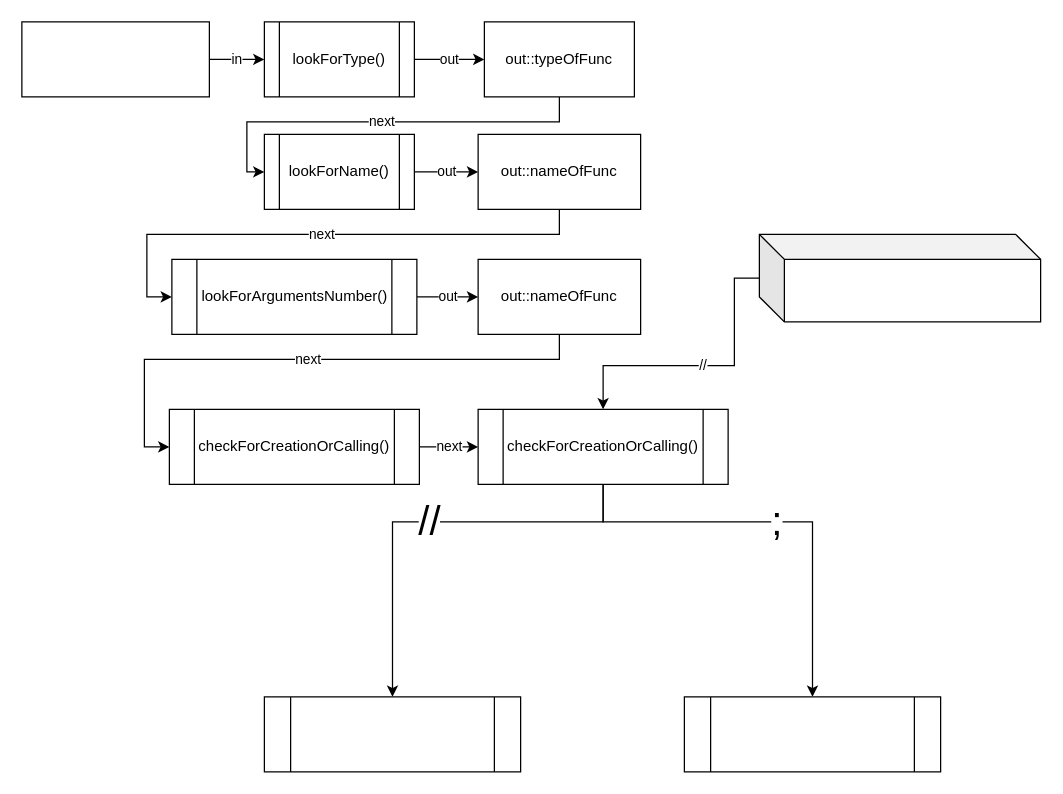
This 1063x794 diagram has some shape labels left out. The shapes that lost their labels are listed below. From the top down, each one's centre as x and y in pixels, then its label:
(115,59): string:CurrentLine
(899,277): // Чекнуть по скобочке или точке с запятой
(392,734): Добавление в таблицу новой записи
(812,734): Поиск в таблице записи с таким именем и добавление в каунтер вызовов
